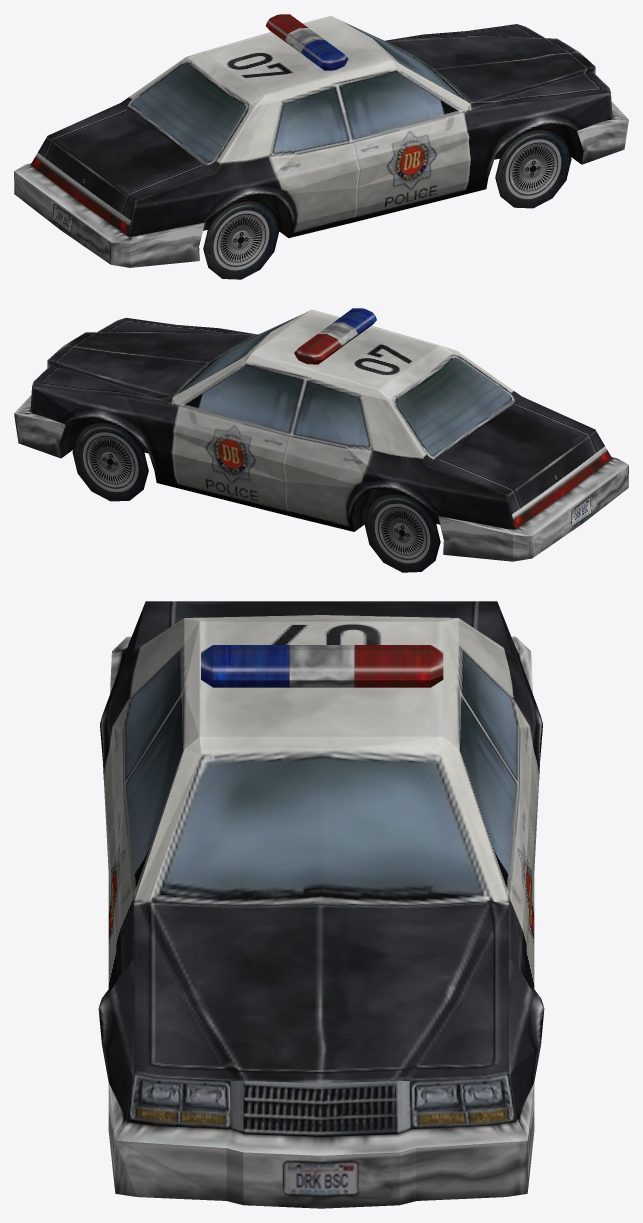
The model's file is cop.glb.
3 views of the same model, one above another, from view 1: azimuth 30°, elevation 25°; view 2: azimuth 150°, elevation 25°; view 3: azimuth 270°, elevation 25° (orthographic). The views are drawn at different scales.
Bounding box in the file's own units: 2.5 × 0.8125 × 0.9067.
Materials: 1 (1 with a texture image).
